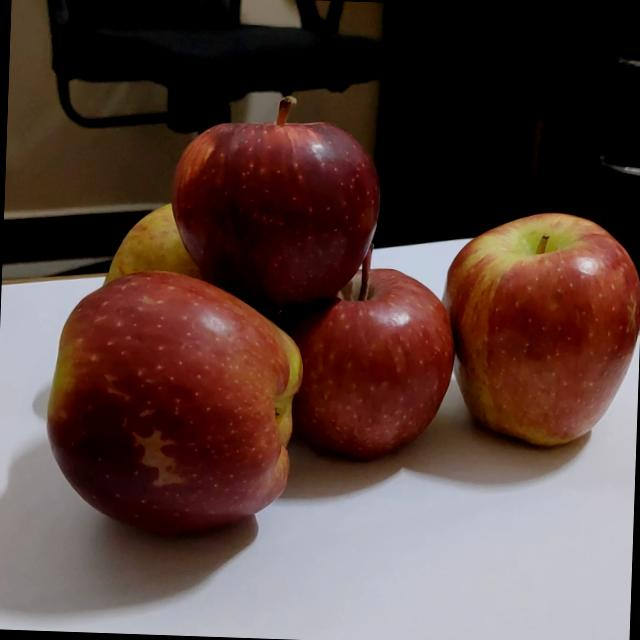apple: (40, 265, 310, 544), (165, 86, 392, 312), (437, 207, 640, 452), (271, 238, 459, 462), (78, 193, 278, 353)
